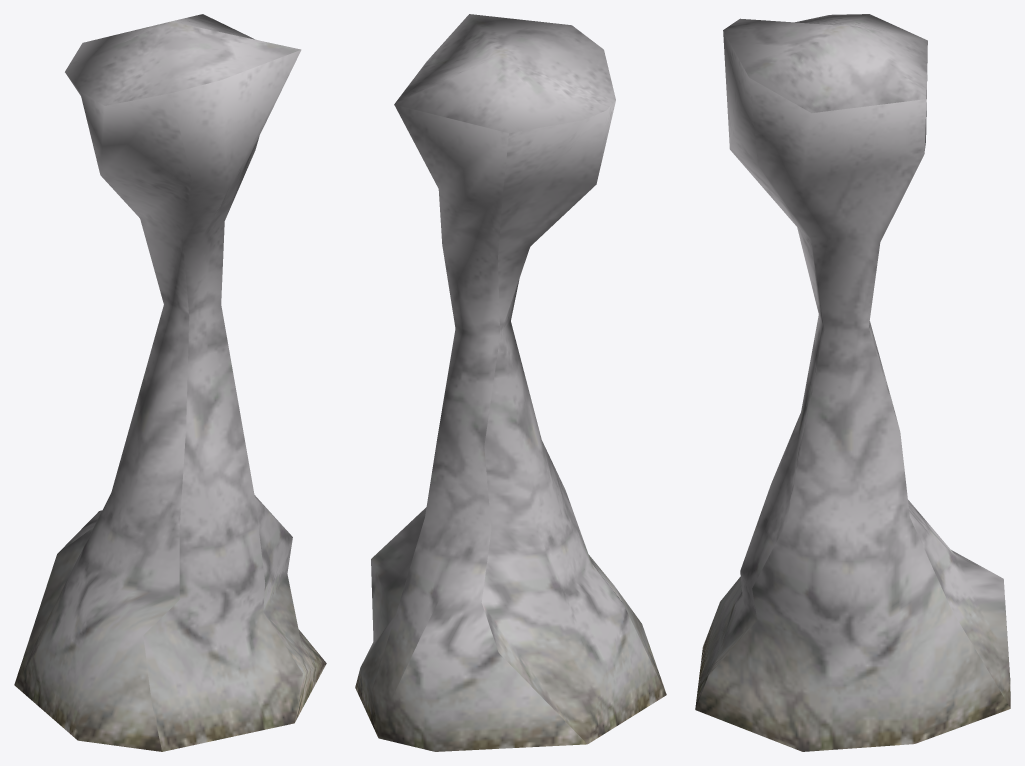
The model's file is general_obj_bigstone04_lod_01.glb.
3 views of the same model, side by side, from view 1: azimuth 30°, elevation 25°; view 2: azimuth 150°, elevation 25°; view 3: azimuth 270°, elevation 25° (orthographic). The views are drawn at different scales.
Visible parts, largest first — view 1: Sphere01; view 2: Sphere01; view 3: Sphere01.
Boxes of the visible parts, x1,y1,x2,y2 form: Sphere01: (14,14,326,751); Sphere01: (355,14,666,751); Sphere01: (695,14,1010,751).
Bounding box in the file's own units: 15.99 × 37.77 × 16.35.
1 material, 1 textured.
